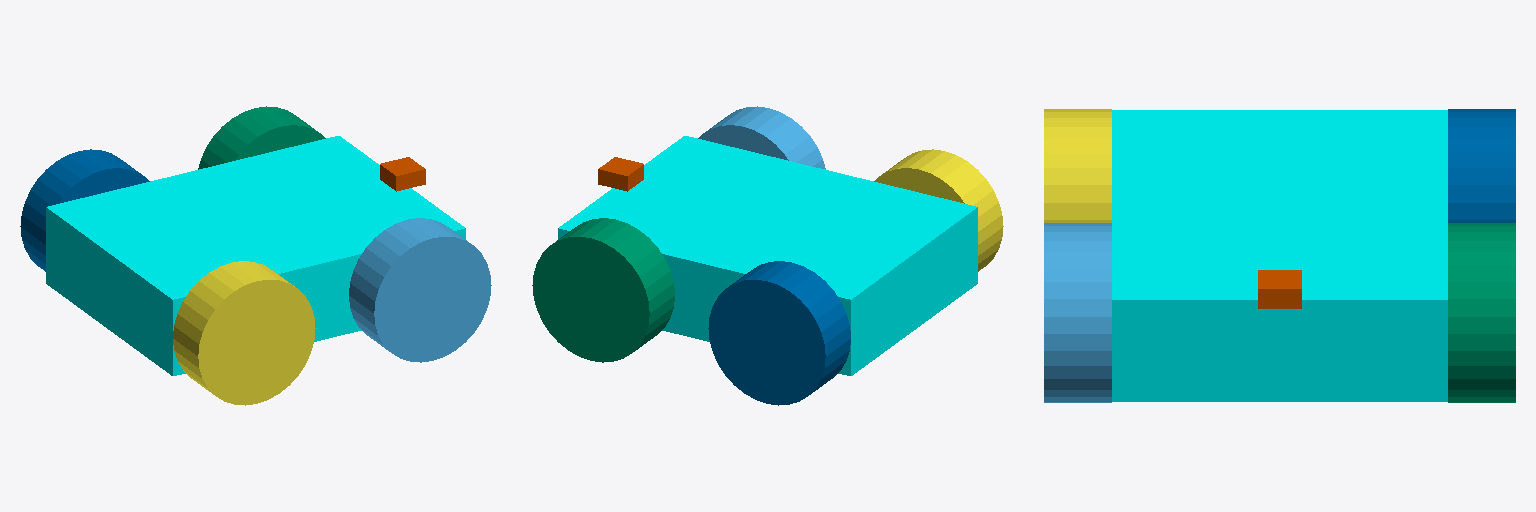
robot.urdf — robot1:
<?xml version="1.0" ?>
<!-- =================================================================================== -->
<!-- |    This document was autogenerated by xacro from /home/fizzer/enph353_ws/src/enph353_ros_lab/urdf/robot.xacro | -->
<!-- |    EDITING THIS FILE BY HAND IS NOT RECOMMENDED                                 | -->
<!-- =================================================================================== -->
<robot name="robot1">
  <material name="black">
    <color rgba="0.0 0.0 0.0 1.0"/>
  </material>
  <material name="blue">
    <color rgba="0.0 0.0 0.8 1.0"/>
    <category_bits>0x02</category_bits>
  </material>
  <material name="green">
    <color rgba="0.0 0.8 0.0 1.0"/>
  </material>
  <material name="grey">
    <color rgba="0.2 0.2 0.2 1.0"/>
  </material>
  <material name="orange">
    <color rgba="1.0 0.4235294117647059 0.0392156862745098 1.0"/>
    <category_bits>0x02</category_bits>
  </material>
  <material name="brown">
    <color rgba="0.8705882352941177 0.8117647058823529 0.7647058823529411 1.0"/>
  </material>
  <material name="red">
    <color rgba="0.8 0.0 0.0 1.0"/>
  </material>
  <material name="white">
    <color rgba="1.0 1.0 1.0 1.0"/>
  </material>
  <material name="yellow">
    <color rgba="1.0 1.0 0 1.0"/>
    <category_bits>0x02</category_bits>
  </material>
  <!-- Chassis -->
  <link name="chassis">
    <inertial name="chassis_inertial">
      <mass value="0.5"/>
      <inertia ixx="0.0010416666666666667" ixy="0" ixz="0" iyy="0.0026041666666666665" iyz="0" izz="0.0017708333333333337"/>
    </inertial>
    <collision name="chassis_collision">
      <geometry>
        <box size="0.2 0.15 0.05"/>
      </geometry>
      <surface>
        <contact>
          <collide>false</collide>
        </contact>
      </surface>
    </collision>
    <visual name="chassis_visual">
      <origin rpy=" 0 0 0" xyz="0 0 0"/>
      <geometry>
        <box size="0.2 0.15 0.05"/>
      </geometry>
      <material name="Cyan">
        <color rgba="0 1.0 1.0 1.0"/>
      </material>
    </visual>
  </link>
  <link name="wheel_FR">
    <inertial name="wheel_FR_inertial">
      <mass value="0.025"/>
      <inertia ixx="1.1874999999999999e-05" ixy="0" ixz="0" iyy="1.1874999999999999e-05" iyz="0" izz="2e-05"/>
    </inertial>
    <collision name="wheel_FR_collision">
      <origin rpy="1.5708 0 0" xyz="0 0 0"/>
      <origin rpy="1.5708 0 0" xyz="0 0 0"/>
      <origin rpy="1.5708 0 0" xyz="0 0 0"/>
      <origin rpy="1.5708 0 0" xyz="0 0 0"/>
      <origin rpy="1.5708 0 0" xyz="0 0 0"/>
      <origin rpy="1.5708 0 0" xyz="0 0 0"/>
      <origin rpy="1.5708 0 0" xyz="0 0 0"/>
      <geometry>
        <cylinder length="0.03" radius="0.04"/>
      </geometry>
      <surface>
        <contact>
          <collide>false</collide>
        </contact>
      </surface>
    </collision>
    <visual name="wheel_FR_visual">
      <origin rpy="1.5708 0 0" xyz="0 0 0"/>
      <geometry>
        <cylinder length="0.03" radius="0.04"/>
      </geometry>
    </visual>
  </link>
  <link name="wheel_FL">
    <inertial name="wheel_FL_inertial">
      <mass value="0.025"/>
      <inertia ixx="1.1874999999999999e-05" ixy="0" ixz="0" iyy="1.1874999999999999e-05" iyz="0" izz="2e-05"/>
    </inertial>
    <collision name="wheel_FL_collision">
      <origin rpy="1.5708 0 0" xyz="0 0 0"/>
      <origin rpy="1.5708 0 0" xyz="0 0 0"/>
      <origin rpy="1.5708 0 0" xyz="0 0 0"/>
      <origin rpy="1.5708 0 0" xyz="0 0 0"/>
      <origin rpy="1.5708 0 0" xyz="0 0 0"/>
      <origin rpy="1.5708 0 0" xyz="0 0 0"/>
      <origin rpy="1.5708 0 0" xyz="0 0 0"/>
      <geometry>
        <cylinder length="0.03" radius="0.04"/>
      </geometry>
      <surface>
        <contact>
          <collide>false</collide>
        </contact>
      </surface>
    </collision>
    <visual name="wheel_FL_visual">
      <origin rpy="1.5708 0 0" xyz="0 0 0"/>
      <geometry>
        <cylinder length="0.03" radius="0.04"/>
      </geometry>
    </visual>
  </link>
  <link name="wheel_RR">
    <inertial name="wheel_RR_inertial">
      <mass value="0.025"/>
      <inertia ixx="1.1874999999999999e-05" ixy="0" ixz="0" iyy="1.1874999999999999e-05" iyz="0" izz="2e-05"/>
    </inertial>
    <collision name="wheel_RR_collision">
      <origin rpy="1.5708 0 0" xyz="0 0 0"/>
      <origin rpy="1.5708 0 0" xyz="0 0 0"/>
      <origin rpy="1.5708 0 0" xyz="0 0 0"/>
      <origin rpy="1.5708 0 0" xyz="0 0 0"/>
      <origin rpy="1.5708 0 0" xyz="0 0 0"/>
      <origin rpy="1.5708 0 0" xyz="0 0 0"/>
      <origin rpy="1.5708 0 0" xyz="0 0 0"/>
      <geometry>
        <cylinder length="0.03" radius="0.04"/>
      </geometry>
      <surface>
        <contact>
          <collide>false</collide>
        </contact>
      </surface>
    </collision>
    <visual name="wheel_RR_visual">
      <origin rpy="1.5708 0 0" xyz="0 0 0"/>
      <geometry>
        <cylinder length="0.03" radius="0.04"/>
      </geometry>
    </visual>
  </link>
  <link name="wheel_RL">
    <inertial name="wheel_RL_inertial">
      <mass value="0.025"/>
      <inertia ixx="1.1874999999999999e-05" ixy="0" ixz="0" iyy="1.1874999999999999e-05" iyz="0" izz="2e-05"/>
    </inertial>
    <collision name="wheel_RL_collision">
      <origin rpy="1.5708 0 0" xyz="0 0 0"/>
      <origin rpy="1.5708 0 0" xyz="0 0 0"/>
      <origin rpy="1.5708 0 0" xyz="0 0 0"/>
      <origin rpy="1.5708 0 0" xyz="0 0 0"/>
      <origin rpy="1.5708 0 0" xyz="0 0 0"/>
      <origin rpy="1.5708 0 0" xyz="0 0 0"/>
      <origin rpy="1.5708 0 0" xyz="0 0 0"/>
      <geometry>
        <cylinder length="0.03" radius="0.04"/>
      </geometry>
      <surface>
        <contact>
          <collide>false</collide>
        </contact>
      </surface>
    </collision>
    <visual name="wheel_RL_visual">
      <origin rpy="1.5708 0 0" xyz="0 0 0"/>
      <geometry>
        <cylinder length="0.03" radius="0.04"/>
      </geometry>
    </visual>
  </link>
  <!-- Camera -->
  <link name="camera_link">
    <inertial name="camera_link_inertial">
      <mass value="0.01"/>
      <inertia ixx="4.166666666666667e-07" ixy="0" ixz="0" iyy="6.666666666666668e-07" iyz="0" izz="4.166666666666667e-07"/>
    </inertial>
    <collision name="camera_link_collision">
      <geometry>
        <box size="0.02 0.02 0.01"/>
      </geometry>
      <surface>
        <contact>
          <collide>false</collide>
        </contact>
      </surface>
    </collision>
    <visual name="camera_link_visual">
      <geometry>
        <box size="0.02 0.02 0.01"/>
      </geometry>
    </visual>
  </link>
  <joint name="wheel_FR_joint" type="continuous">
    <parent link="chassis"/>
    <child link="wheel_FR"/>
    <origin rpy="0 0 0" xyz="0.060000000000000005 -0.09 0"/>
    <axis xyz="0 1 0"/>
  </joint>
  <joint name="wheel_FL_joint" type="continuous">
    <parent link="chassis"/>
    <child link="wheel_FL"/>
    <origin rpy="0 0 0" xyz="0.060000000000000005 0.09 0"/>
    <axis xyz="0 1 0"/>
  </joint>
  <joint name="wheel_RR_joint" type="continuous">
    <parent link="chassis"/>
    <child link="wheel_RR"/>
    <origin rpy="0 0 0" xyz="-0.060000000000000005 -0.09 0"/>
    <axis xyz="0 1 0"/>
  </joint>
  <joint name="wheel_RL_joint" type="continuous">
    <parent link="chassis"/>
    <child link="wheel_RL"/>
    <origin rpy="0 0 0" xyz="-0.060000000000000005 0.09 0"/>
    <axis xyz="0 1 0"/>
  </joint>
  <joint name="camera_joint" type="fixed">
    <parent link="chassis"/>
    <child link="camera_link"/>
    <origin xyz="0.1 0 0.030000000000000002"/>
    <axis xyz="0 1 0"/>
  </joint>
  <gazebo>
    <plugin filename="libgazebo_ros_skid_steer_drive.so" name="skid_steer_drive_controller">
      <updateRate>100.0</updateRate>
      <robotNamespace>/robot1</robotNamespace>
      <leftFrontJoint>wheel_FL_joint</leftFrontJoint>
      <rightFrontJoint>wheel_FR_joint</rightFrontJoint>
      <leftRearJoint>wheel_RL_joint</leftRearJoint>
      <rightRearJoint>wheel_RR_joint</rightRearJoint>
      <wheelSeparation>0.18</wheelSeparation>
      <wheelDiameter>0.08</wheelDiameter>
      <robotBaseFrame>chassis</robotBaseFrame>
      <torque>20</torque>
      <topicName>cmd_vel</topicName>
      <broadcastTF>false</broadcastTF>
    </plugin>
  </gazebo>
  <gazebo>
    <plugin filename="libgazebo_ros_collision_filter.so" name="collision_filter">
      <robotNamespace>/robot1</robotNamespace>
      <ignoredModels></ignoredModels>
    </plugin>
  </gazebo>
  <!-- Gazebo materials - visible in GUI -->
  <gazebo reference="chassis">
    <material>Gazebo/Orange</material>
  </gazebo>
  <gazebo reference="wheel_FL">
    <material>Gazebo/Yellow</material>
  </gazebo>
  <gazebo reference="wheel_FR">
    <material>Gazebo/Yellow</material>
  </gazebo>
  <gazebo reference="wheel_RL">
    <material>Gazebo/Yellow</material>
  </gazebo>
  <gazebo reference="wheel_RR">
    <material>Gazebo/Yellow</material>
  </gazebo>
  <gazebo reference="camera_link">
    <material>Gazebo/Blue</material>
  </gazebo>
  <!-- Camera sensor -->
  <gazebo reference="camera_link">
    <sensor name="camera1" type="camera">
      <update_rate>30.0</update_rate>
      <camera name="head">
        <horizontal_fov>1.5</horizontal_fov>
        <image>
          <width>500</width>
          <height>500</height>
          <format>L8</format>
        </image>
        <clip>
          <near>0.02</near>
          <far>300</far>
        </clip>
        <noise>
          <type>gaussian</type>
          <mean>0.0</mean>
          <stddev>0.007</stddev>
        </noise>
      </camera>
      <plugin filename="libgazebo_ros_camera.so" name="camera_controller">
        <alwaysOn>true</alwaysOn>
        <updateRate>0.0</updateRate>
        <cameraName>robot1/camera1</cameraName>
        <imageTopicName>robot1/image_raw</imageTopicName>
        <cameraInfoTopicName>robot1/camera_info</cameraInfoTopicName>
        <frameName>camera_link</frameName>
        <hackBaseline>0.07</hackBaseline>
      </plugin>
    </sensor>
  </gazebo>
</robot>

--- Facts derived from the render (not from the file) ---
The picture shows the robot from 3 angles, left to right: view 1: azimuth 30°, elevation 25°; view 2: azimuth 150°, elevation 25°; view 3: azimuth 270°, elevation 25°; orthographic projection.
Model robot1 with 6 links and 5 joints (4 continuous, 1 fixed), rooted at chassis, posed all joints at 0.
Visible links, largest first — view 1: chassis, wheel_RR, wheel_FR, wheel_RL, wheel_FL, camera_link; view 2: chassis, wheel_RL, wheel_FL, wheel_RR, wheel_FR, camera_link; view 3: chassis, wheel_FR, wheel_FL, wheel_RR, wheel_RL, camera_link.
Link boxes in pixels (left/top/right/bottom): chassis: left=46, top=136, right=465, bottom=375; wheel_RR: left=173, top=261, right=315, bottom=405; wheel_FR: left=349, top=218, right=491, bottom=362; wheel_RL: left=20, top=149, right=149, bottom=271; wheel_FL: left=198, top=106, right=325, bottom=169; camera_link: left=380, top=157, right=425, bottom=191; chassis: left=558, top=136, right=977, bottom=375; wheel_RL: left=708, top=261, right=850, bottom=405; wheel_FL: left=532, top=218, right=674, bottom=362; wheel_RR: left=874, top=149, right=1003, bottom=271; wheel_FR: left=698, top=106, right=825, bottom=169; camera_link: left=598, top=157, right=643, bottom=191; chassis: left=1112, top=110, right=1447, bottom=401; wheel_FR: left=1044, top=223, right=1111, bottom=402; wheel_FL: left=1448, top=223, right=1515, bottom=402; wheel_RR: left=1044, top=109, right=1111, bottom=222; wheel_RL: left=1448, top=109, right=1515, bottom=222; camera_link: left=1258, top=270, right=1301, bottom=308.
Size in the robot's own frame: 0.21 by 0.21 by 0.08 metres.
Geometry: primitives only (box / cylinder / sphere), no mesh files.
